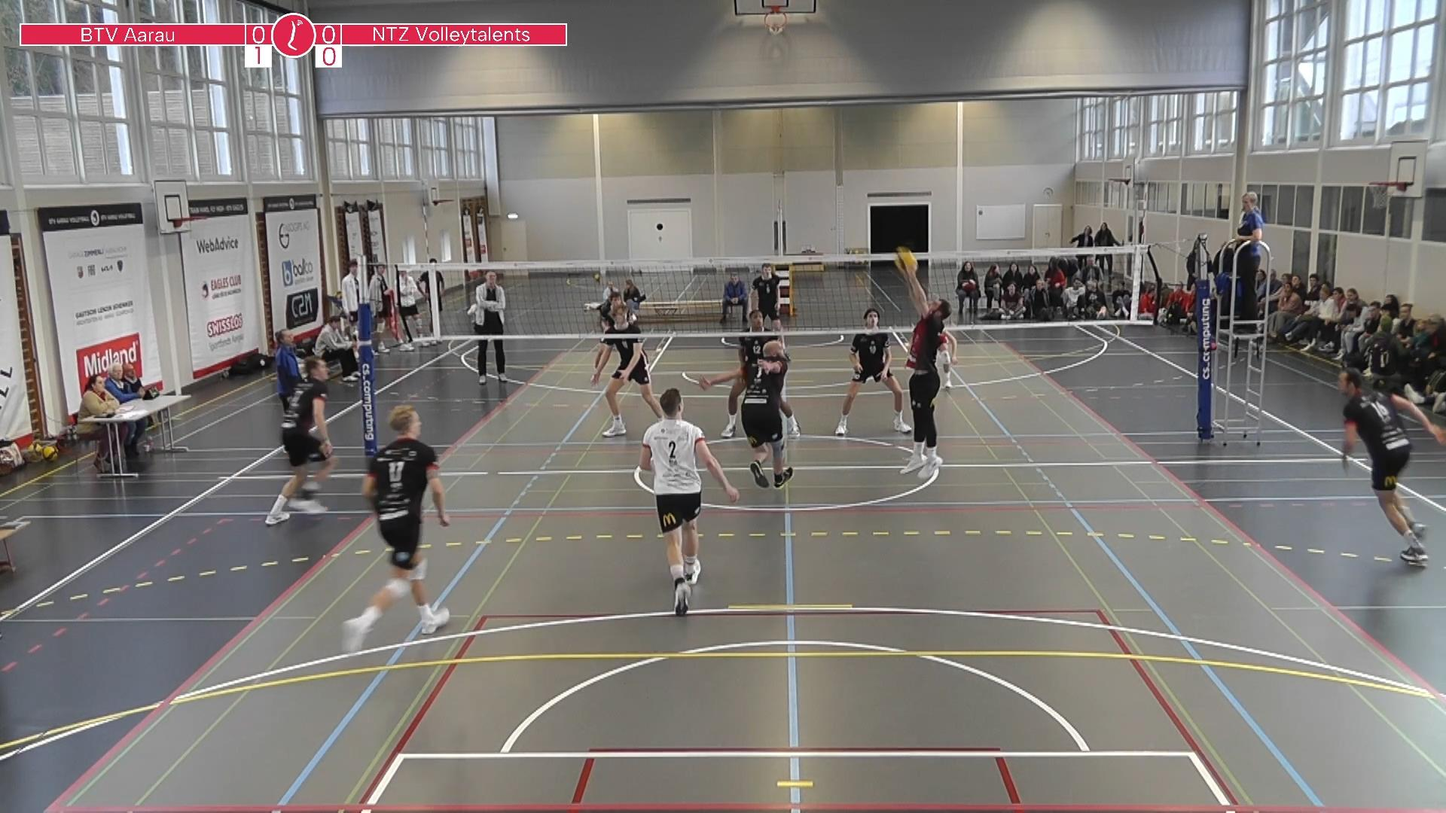alzata: (902, 273, 952, 482)
